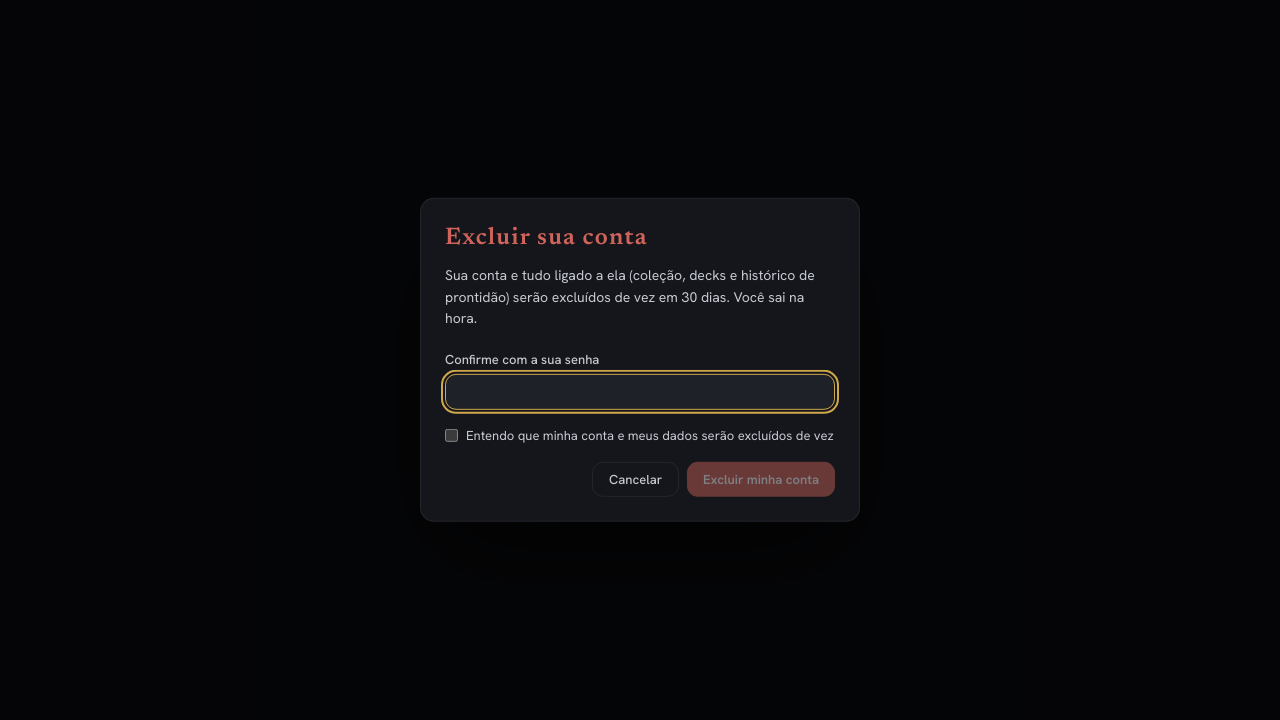
Test case: DeleteAccountModal › keeps the submit button disabled until password and checkbox are filled
Expected: the button "Excluir minha conta" is disabled, [687, 462, 835, 497]
Type password only — still disabled.
Type "hunter2" into the password field labelled "Confirme com a sua senha".
click(640, 392); type("hunter2")  # box [445, 374, 835, 410]
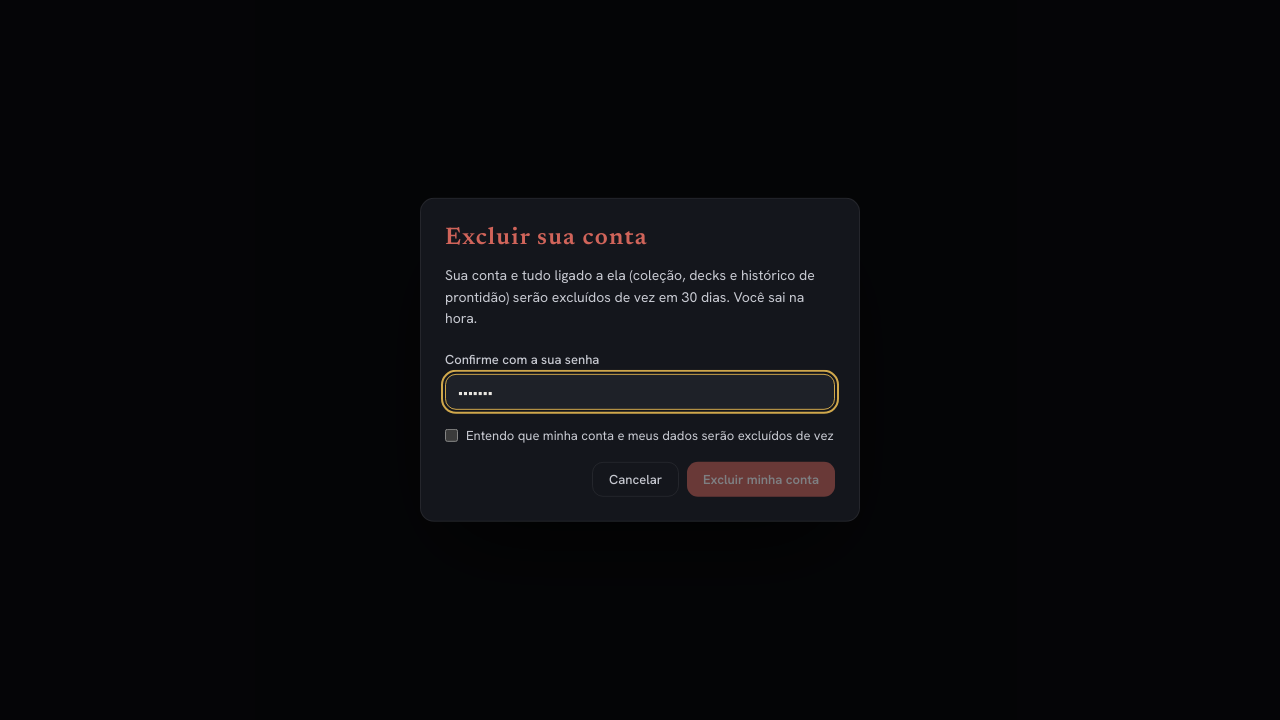
Expected: the button "Excluir minha conta" is disabled, [687, 462, 835, 497]
Check the checkbox — enabled.
Click the checkbox labelled "Entendo que minha conta e meus dados serão excluídos de vez".
click(452, 436)  # box [445, 429, 458, 442]
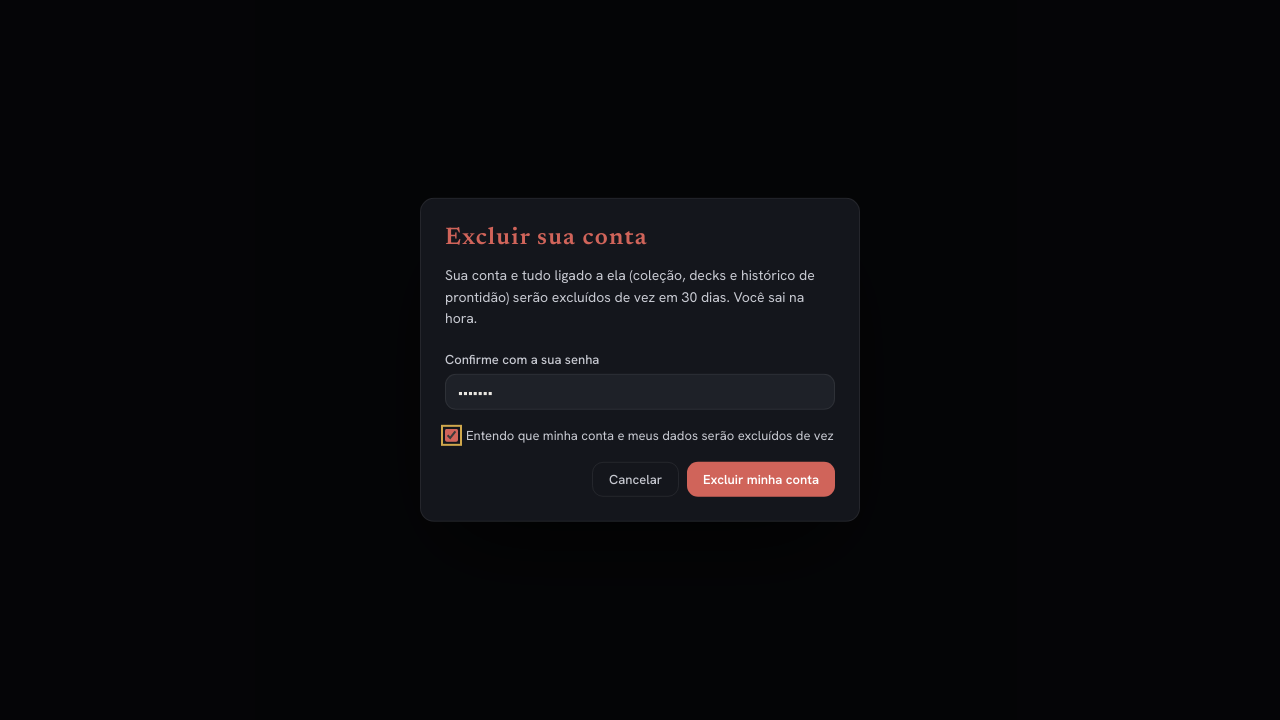
Result: the button "Excluir minha conta" is enabled at [687, 462, 835, 497]
Uncheck — disabled again.
Click the checkbox labelled "Entendo que minha conta e meus dados serão excluídos de vez".
click(452, 436)  # box [445, 429, 458, 442]
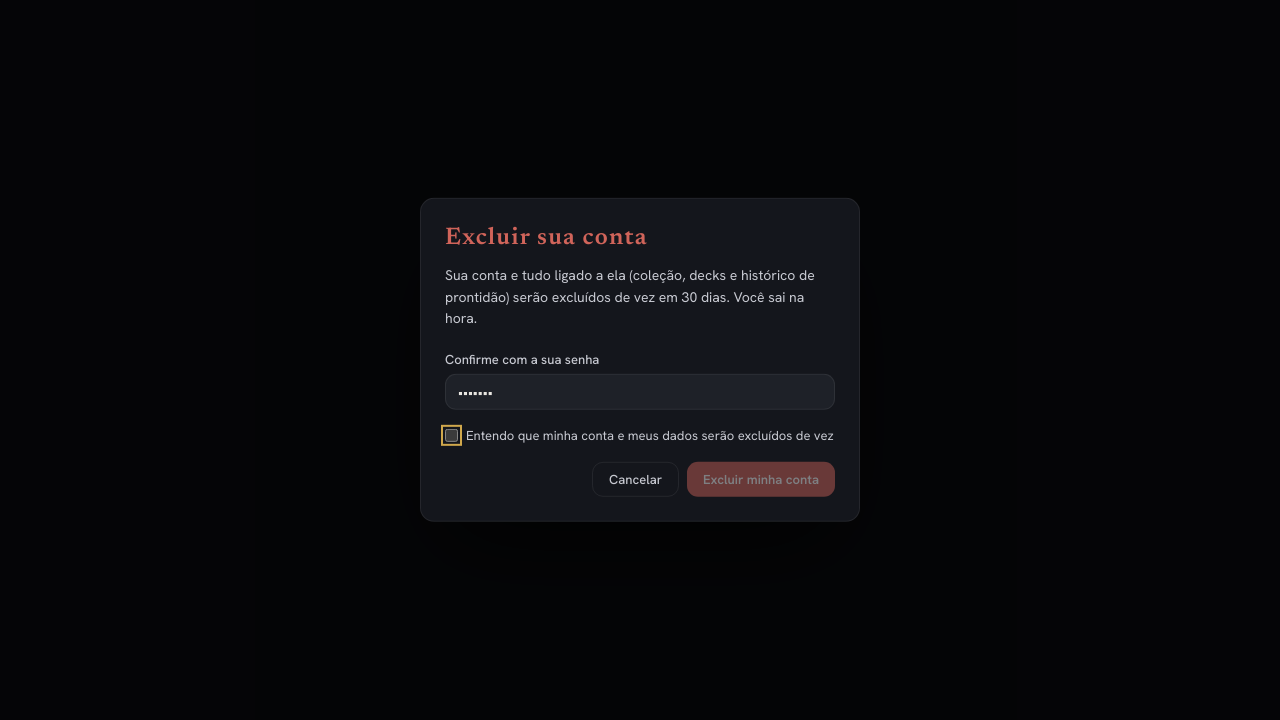
Result: the button "Excluir minha conta" is disabled at [687, 462, 835, 497]
